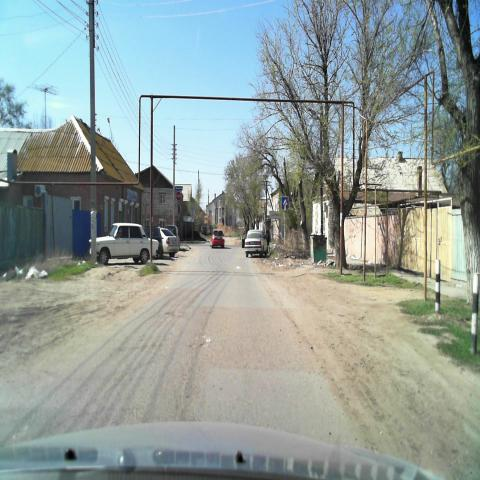5_6: (281, 196, 289, 210)
